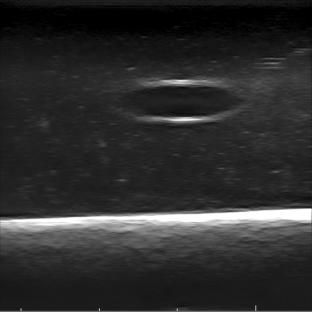vessel: (122, 79, 243, 123)
